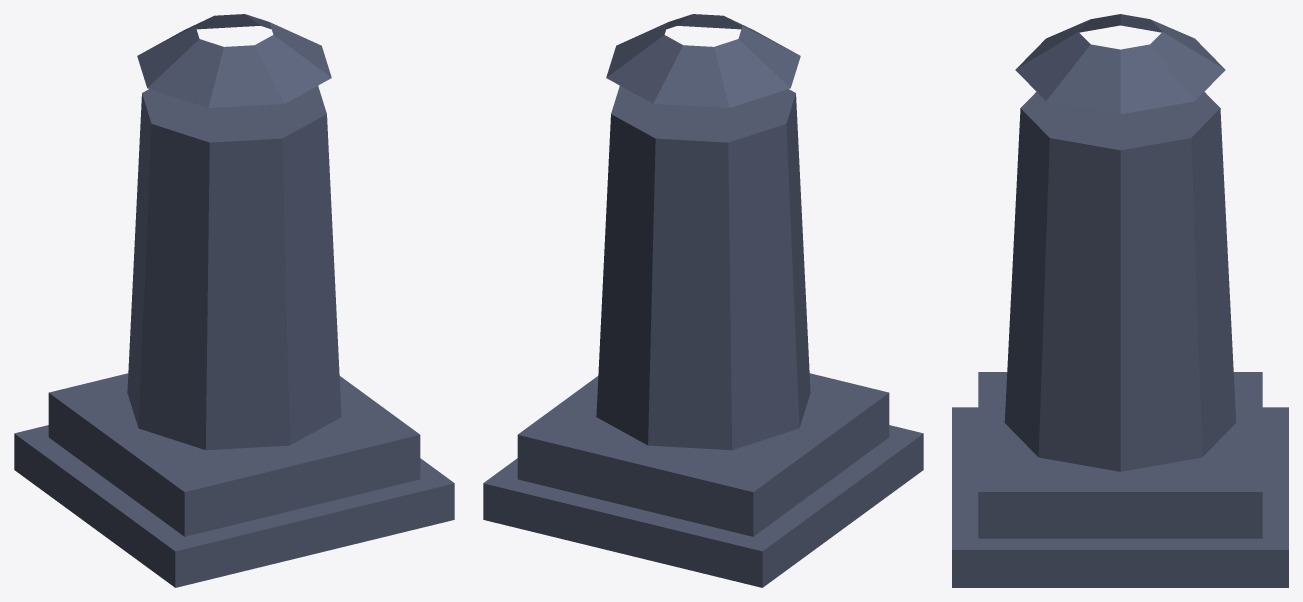
The model's file is Pedestal.fbx.
3 renders of one model, left to right at view 1: azimuth 30°, elevation 25°; view 2: azimuth 150°, elevation 25°; view 3: azimuth 270°, elevation 25°, orthographic. The views are drawn at different scales.
Visible parts, largest first — view 1: EXPORT_Pedestal; view 2: EXPORT_Pedestal; view 3: EXPORT_Pedestal.
Part boxes in pixels (box(x1,y1,x2,y2)): EXPORT_Pedestal: box(14, 14, 454, 587); EXPORT_Pedestal: box(483, 14, 923, 587); EXPORT_Pedestal: box(952, 14, 1288, 587).
Size of the model in its own units: 64 by 102 by 64.
